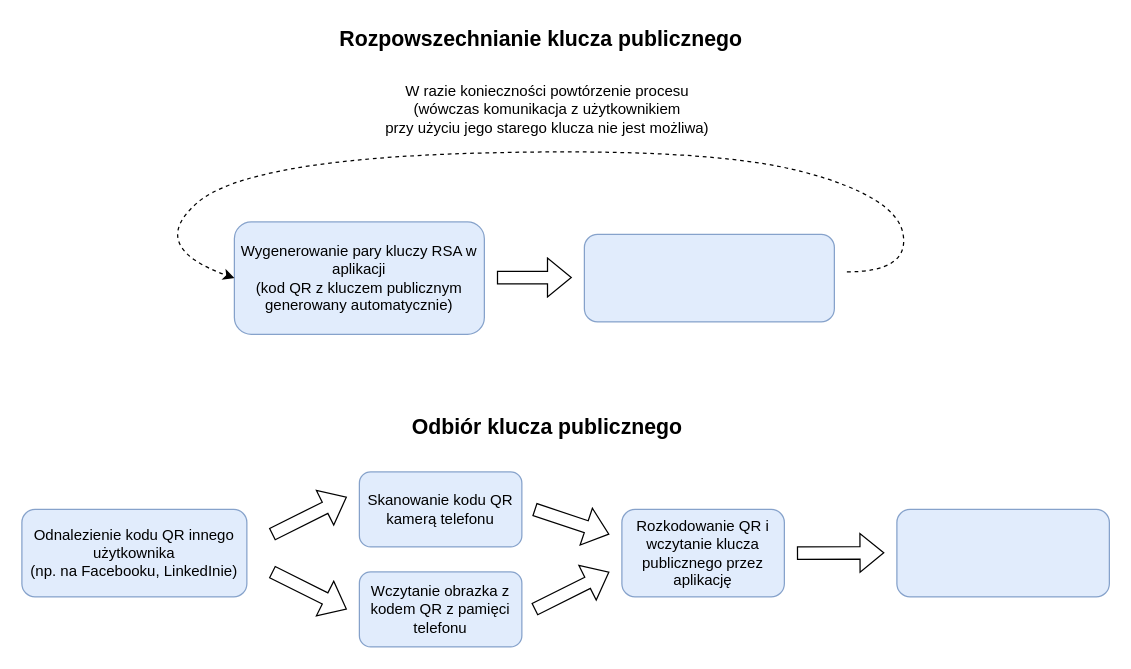
This 1131x669 diagram has some shape labels left out. Here are the shapes that lost their labels. From the top down, the centre of each, then its label:
At (x=708, y=277): "Udostępnienie obrazka z kodem QR kanałem komunikacji wybranym przez użytkownika".
At (x=1002, y=552): "Zapisanie klucza publicznego użytkownika, wykorzystywanie go w komunikacji".
